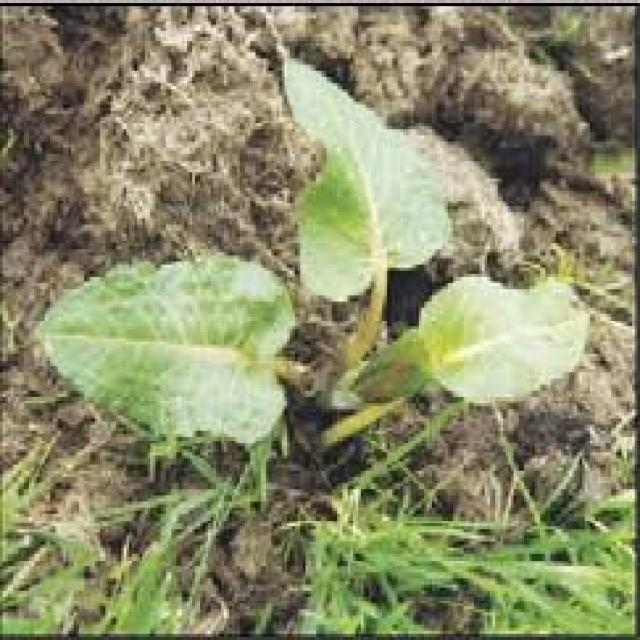organic waste: (79, 71, 619, 526)
